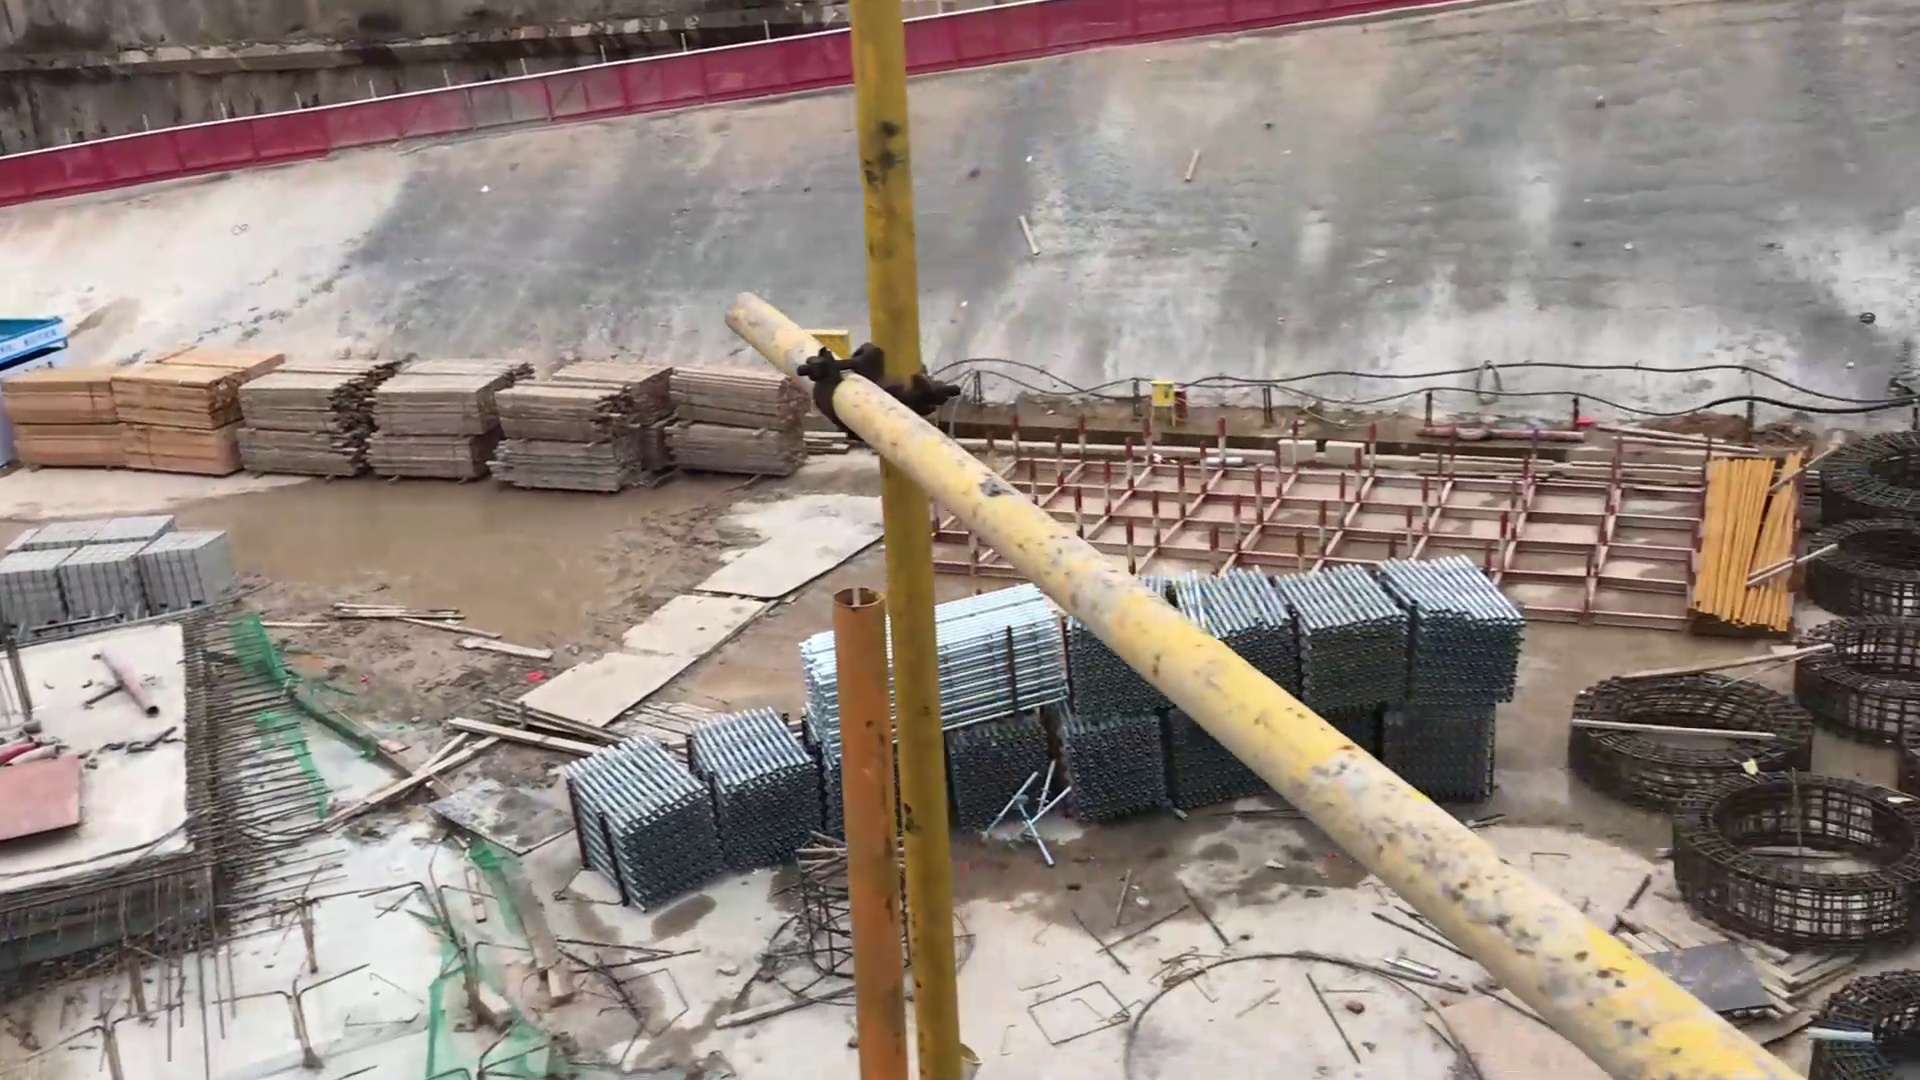board: (1, 750, 84, 833)
brick: (136, 524, 237, 615), (53, 537, 156, 622), (11, 513, 189, 551), (3, 545, 73, 633)
ebox: (1149, 377, 1182, 431)
fence: (15, 102, 360, 204)
scaffold: (560, 731, 727, 916), (680, 702, 825, 882), (1389, 545, 1528, 709), (1276, 560, 1419, 716), (938, 582, 1063, 724), (1048, 705, 1178, 837), (1396, 707, 1511, 796), (1178, 560, 1275, 646)
wood: (7, 344, 236, 492), (496, 345, 662, 491), (666, 338, 818, 485), (243, 334, 378, 489), (371, 345, 489, 485)
